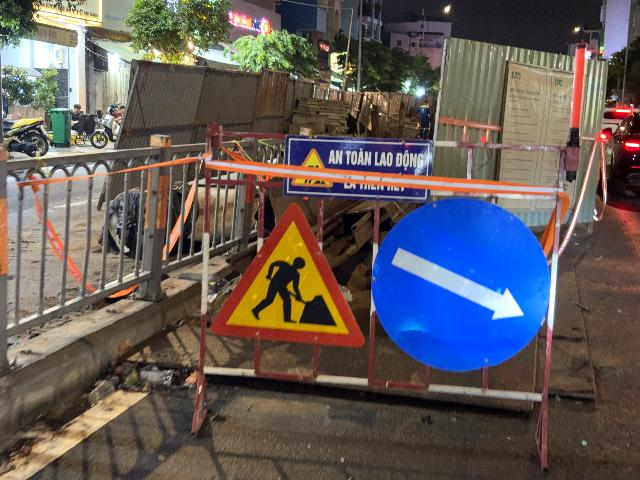cong-truong-dang-thi-cong: (210, 202, 363, 348)
huong-phai-di-vong-chuong-ngai-vat: (372, 197, 548, 371)
